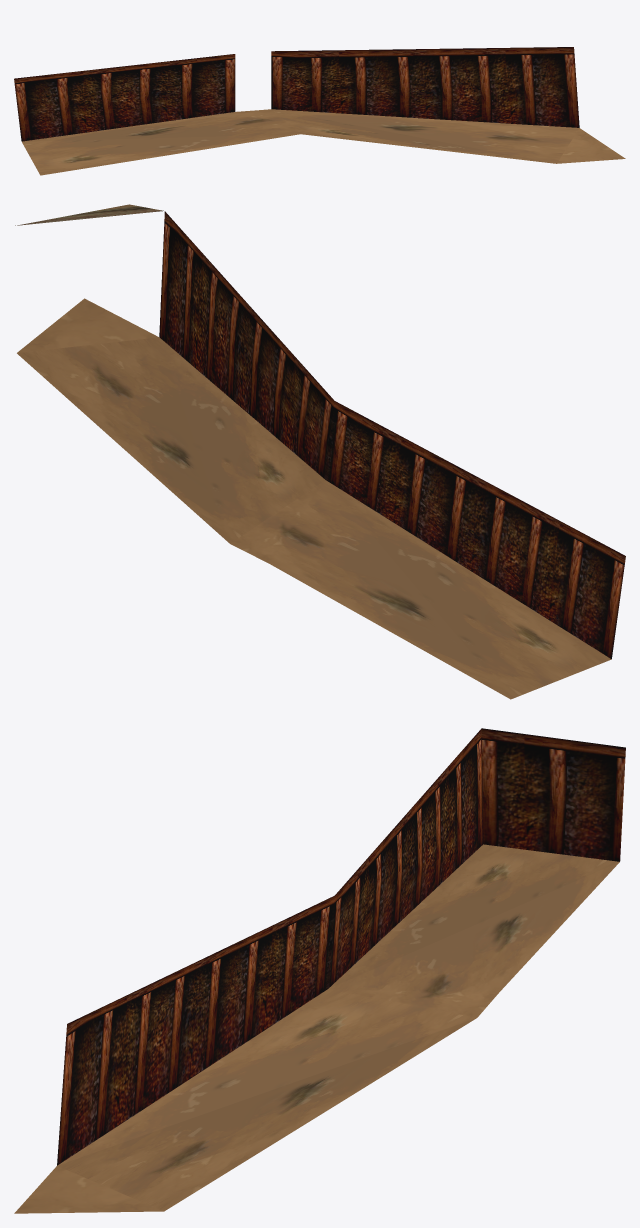
3 renders of one model, top to bottom at view 1: azimuth 30°, elevation 25°; view 2: azimuth 150°, elevation 25°; view 3: azimuth 270°, elevation 25°, orthographic. The views are drawn at different scales.
Parts seen in each view (by area): view 1: Object02; view 2: Object02; view 3: Object02.
Boxes of the visible parts, box(x1,y1,x2,y2) form: Object02: box(14, 47, 625, 175); Object02: box(15, 204, 625, 699); Object02: box(14, 728, 625, 1213).
Bounding box in the file's own units: 3329 × 887 × 2227.
Materials: 3 (3 with a texture image).
